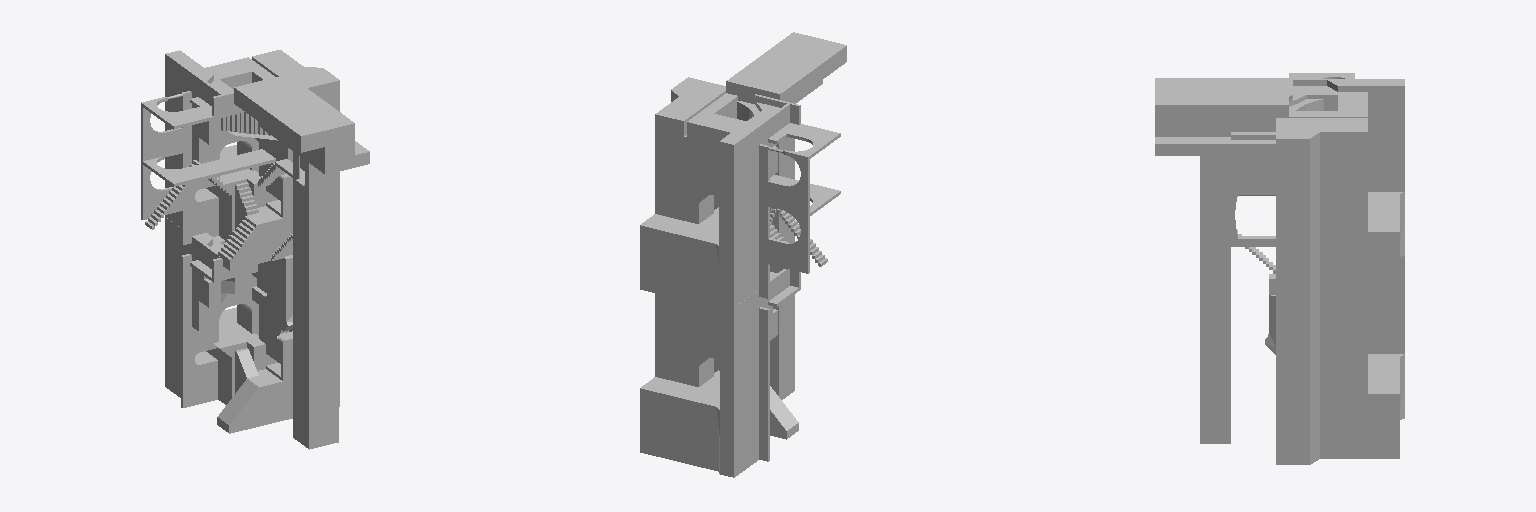
File: eschervilles.obj
The picture shows the model from 3 angles: view 1: azimuth 30°, elevation 25°; view 2: azimuth 150°, elevation 25°; view 3: azimuth 270°, elevation 25°; orthographic projection.
Visible parts, largest first — view 1: Cube.012_Stair; view 2: Cube.012_Stair; view 3: Cube.012_Stair.
Boxes of the visible parts, <box> form: Cube.012_Stair: <box>141,50,369,449</box>; Cube.012_Stair: <box>640,32,846,477</box>; Cube.012_Stair: <box>1155,73,1404,464</box>.
Size of the model in its own units: 11.02 by 21.76 by 14.51.